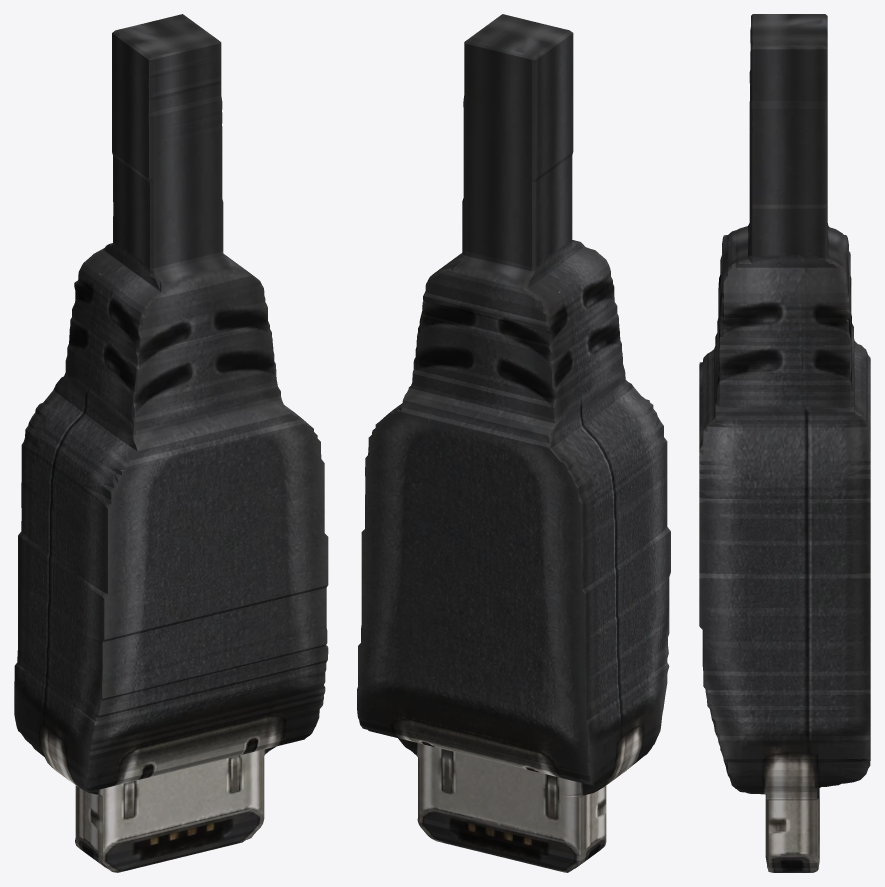
The model's file is usb_plug.glb.
3 renders of one model, left to right at view 1: azimuth 30°, elevation 25°; view 2: azimuth 150°, elevation 25°; view 3: azimuth 270°, elevation 25°, orthographic.
Parts seen in each view (by area): view 1: usb_plug; view 2: usb_plug; view 3: usb_plug.
Boxes of the visible parts, x1,y1,x2,y2 form: usb_plug: (14, 14, 328, 872); usb_plug: (357, 14, 670, 872); usb_plug: (699, 14, 870, 872).
Size of the model in its own units: 10.5 by 34.72 by 6.64.
1 material, 1 textured.
